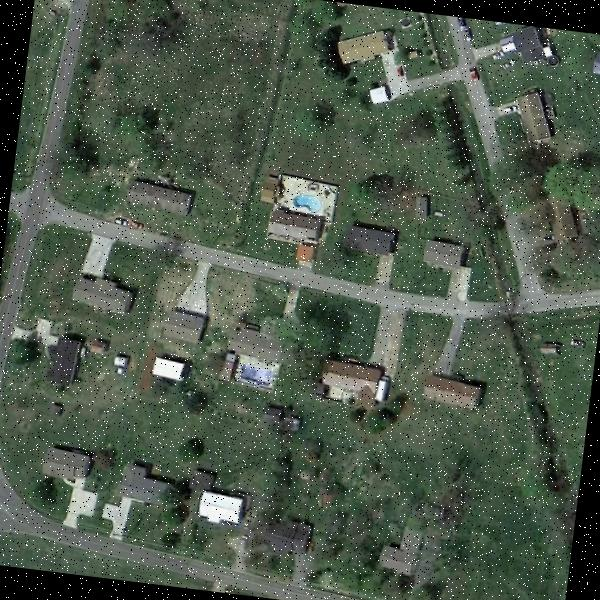Buildings: (320, 356, 390, 410), (78, 267, 140, 319), (266, 206, 322, 256), (385, 524, 426, 580), (42, 332, 83, 387), (424, 376, 482, 412), (42, 439, 84, 487), (338, 32, 392, 68), (544, 194, 580, 246), (200, 490, 242, 530), (520, 86, 552, 138), (355, 220, 394, 260), (132, 183, 186, 209), (116, 477, 166, 500), (426, 240, 462, 266), (591, 53, 600, 80)
